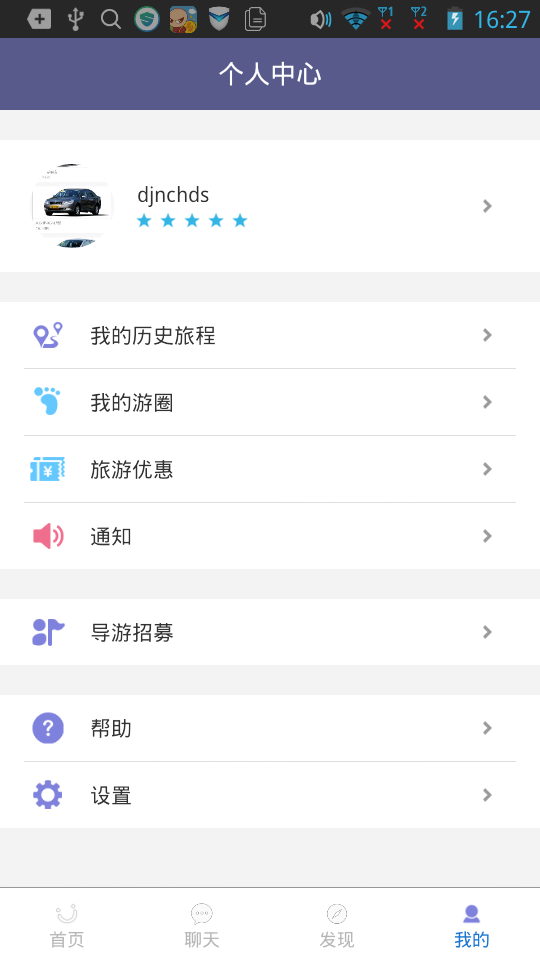imgbutton: (463, 181, 508, 230)
textview: (1, 298, 540, 568), (1, 131, 540, 288)
